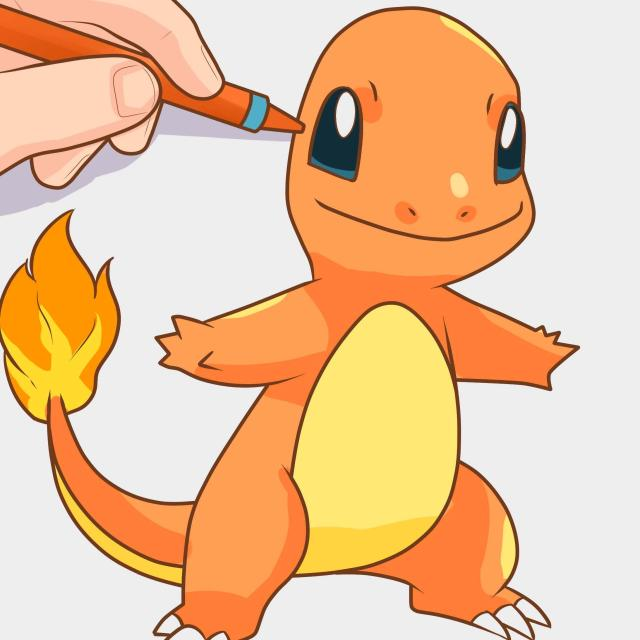Charmander: (262, 13, 533, 623)
